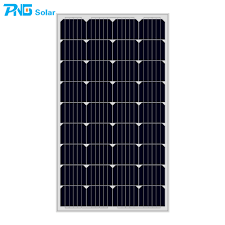solar-panel: (52, 11, 169, 209)
